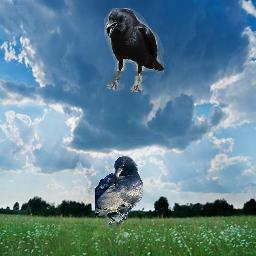Crow: (104, 8, 164, 92), (95, 156, 143, 227)
